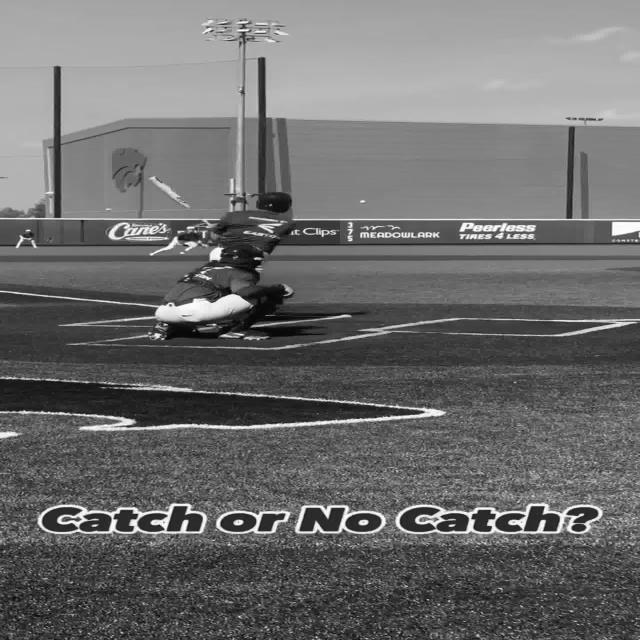baseball: (359, 200, 365, 203)
bat: (147, 176, 190, 208)
shoe: (217, 328, 271, 340), (147, 322, 171, 341)
